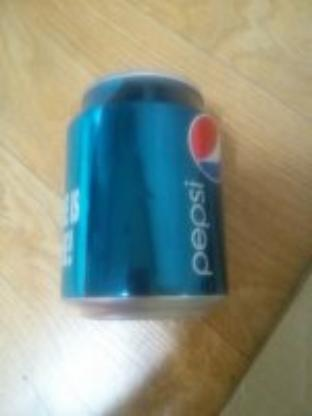Can: (60, 75, 230, 316)
